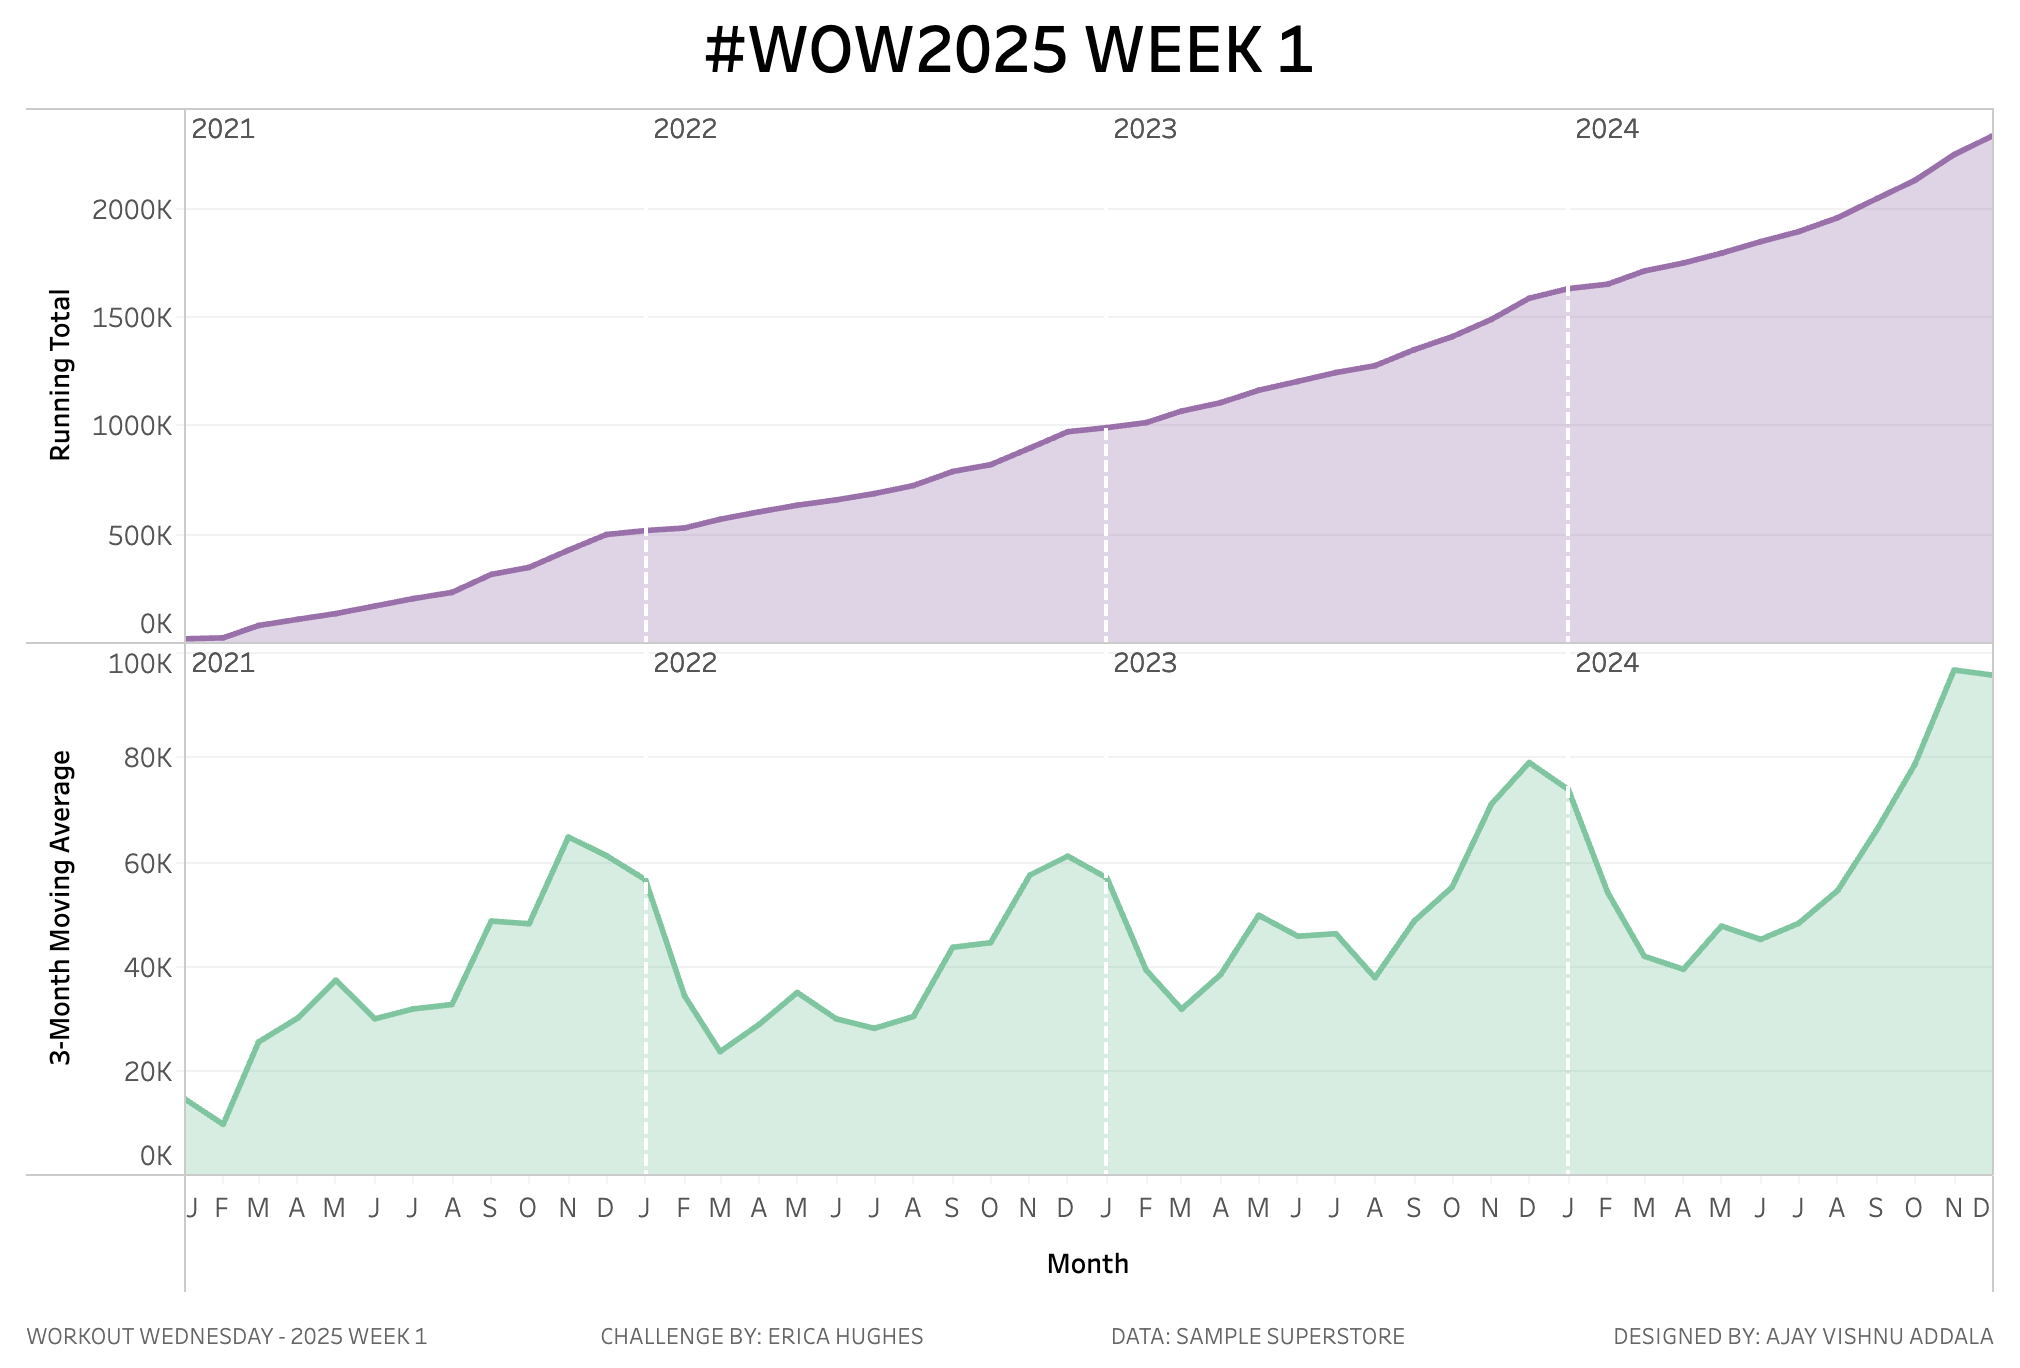

The page's visual inventory and layout, read from the dashboard file:
{"tool":"tableau","page":{"name":"WOW2025 W1","canvas":[1000,700],"ordinal":0},"visuals":[{"type":"worksheet","title":"Sheet 1","mark":"Area","rows":["Calculation_2860982063960809472","Calculation_2860982063960809472","Running_sum (copy)_2860982063964176385","Running_sum (copy)_2860982063964176385"],"cols":["Order Date"],"box":[4,4,992,660]},{"type":"text","box":[4,664,248,32]},{"type":"text","box":[252,664,248,32]},{"type":"text","box":[500,664,248,32]},{"type":"text","box":[748,664,248,32]}]}

Visuals, with their boxes on the page's 1000x700 design canvas (x1, y1, x2, y2). These are canvas units, not pixel positions in the 2020x1368 screenshot, which may show the page scaled, cropped or inside an application window:
"Sheet 1" worksheet (Area marks): rect(4, 4, 996, 664)
text: rect(4, 664, 252, 696)
text: rect(252, 664, 500, 696)
text: rect(500, 664, 748, 696)
text: rect(748, 664, 996, 696)
